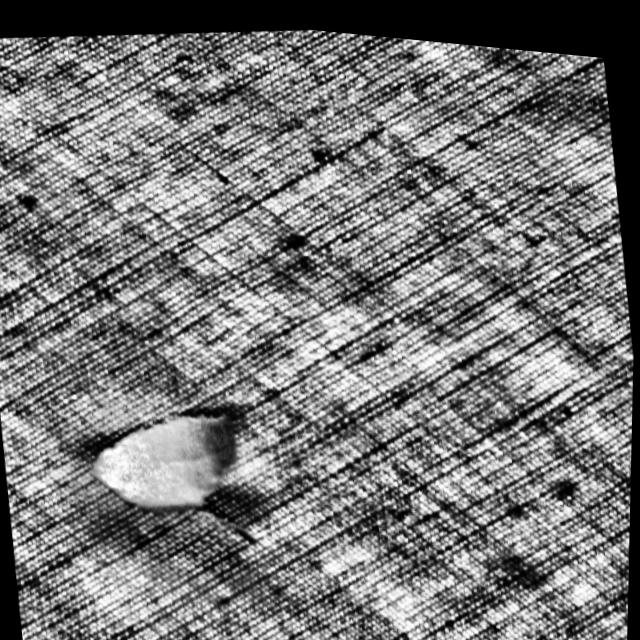Stitch: (84, 390, 253, 523)
